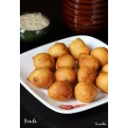bonda: (28, 68, 53, 89), (47, 81, 73, 100), (75, 83, 98, 103), (78, 63, 98, 83), (34, 52, 55, 70), (70, 38, 90, 56), (56, 66, 78, 82), (47, 41, 68, 57), (89, 47, 108, 64), (55, 53, 76, 67), (96, 72, 108, 95)
